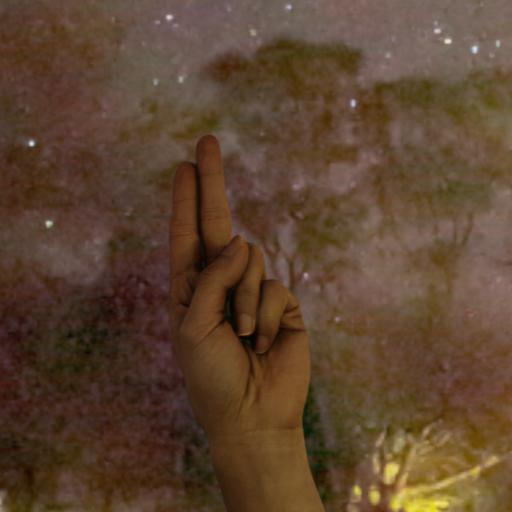U: (142, 120, 346, 512)
